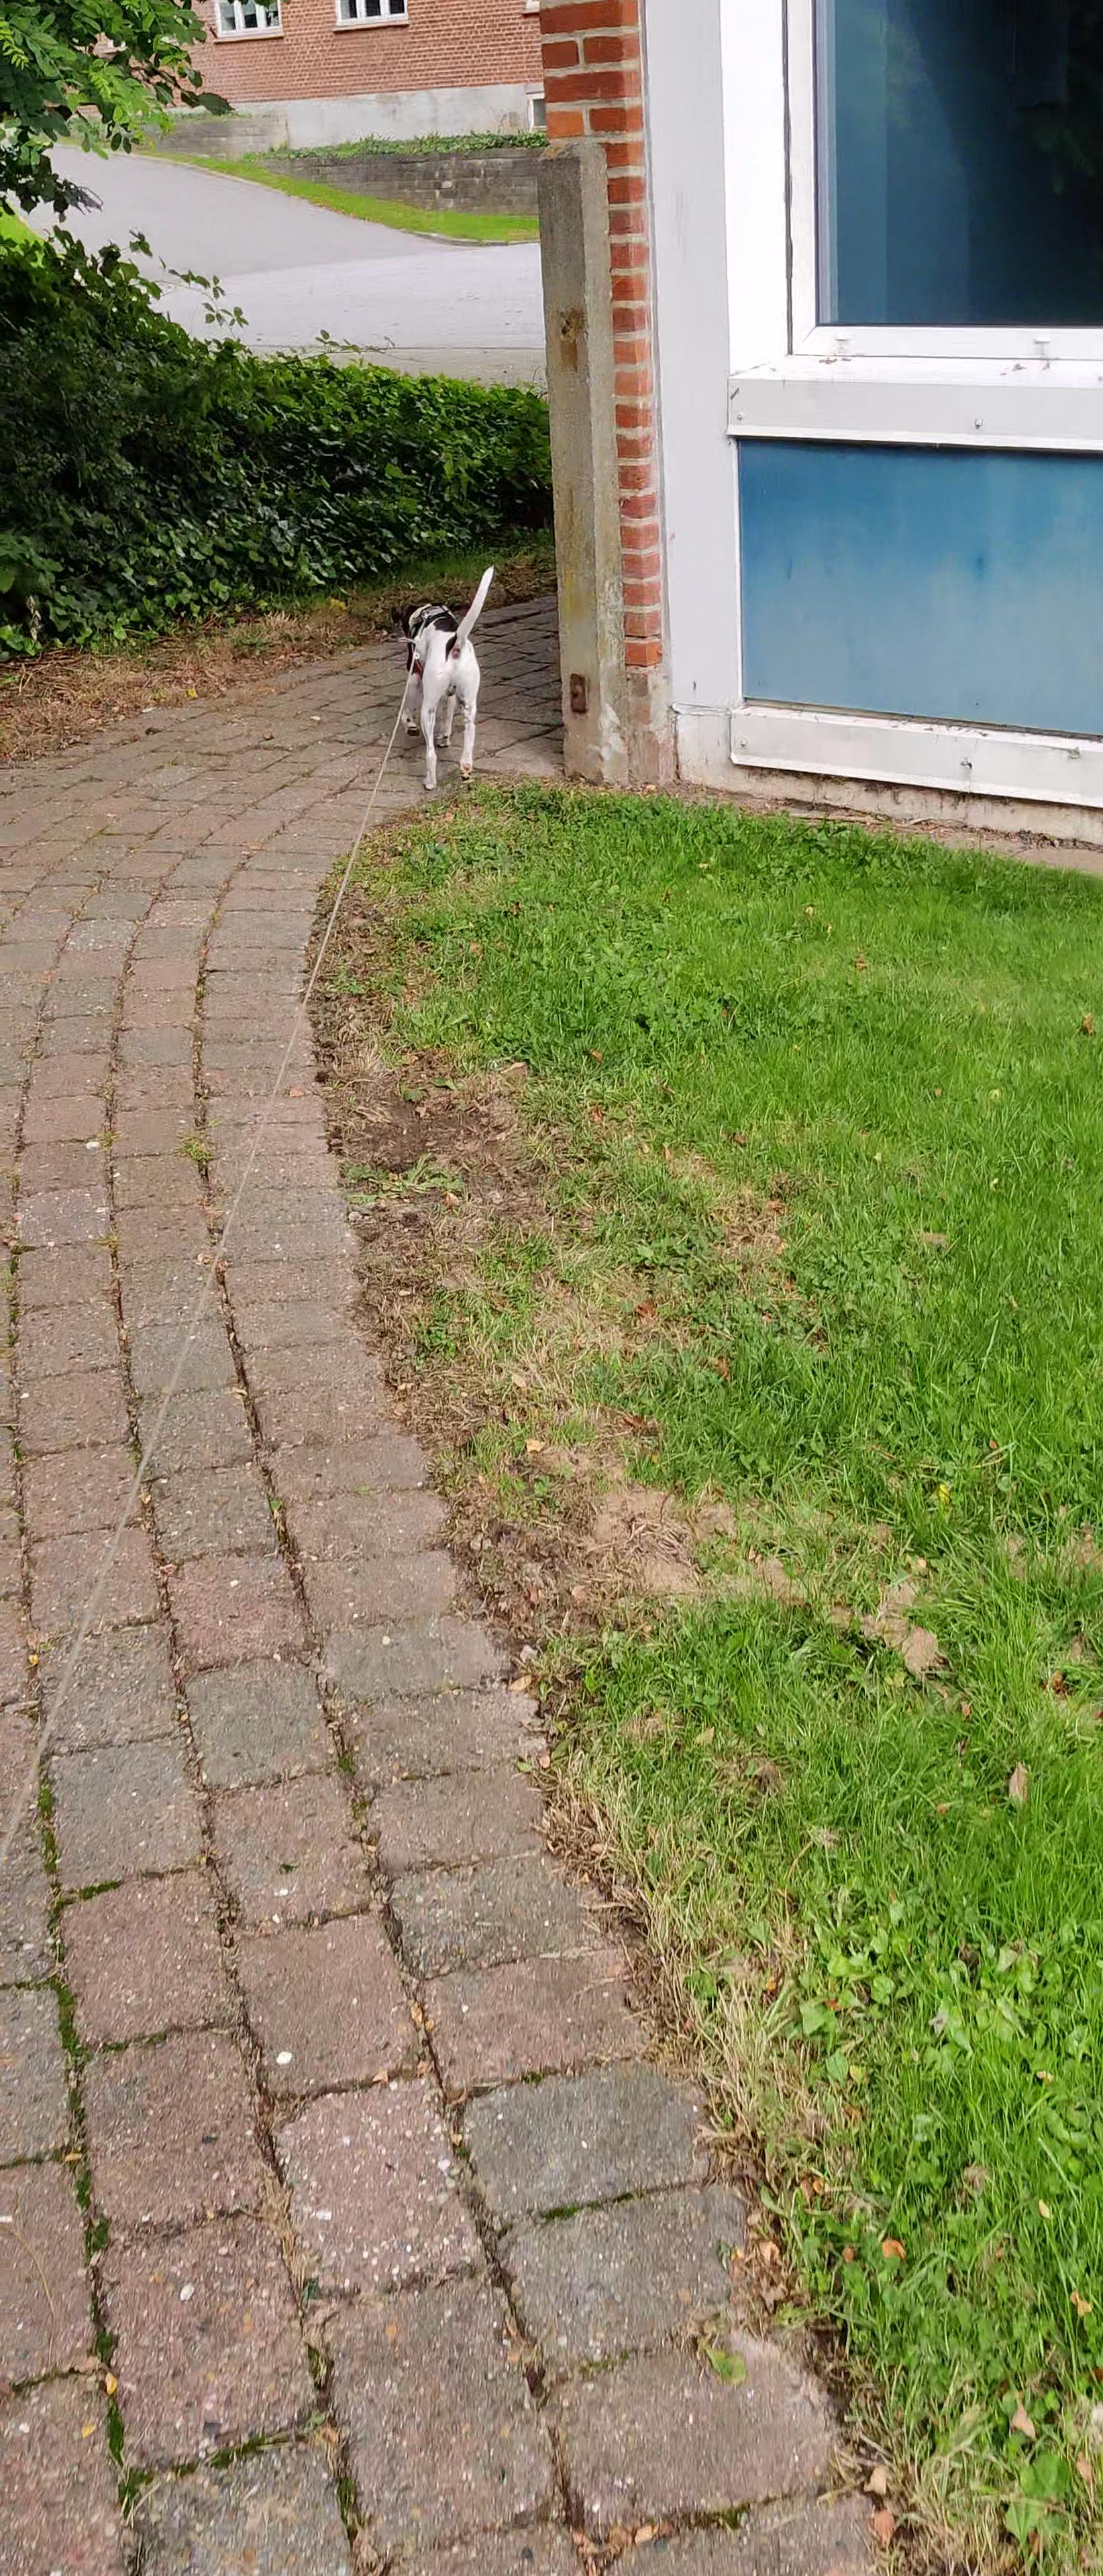Dog: (383, 559, 508, 792)
